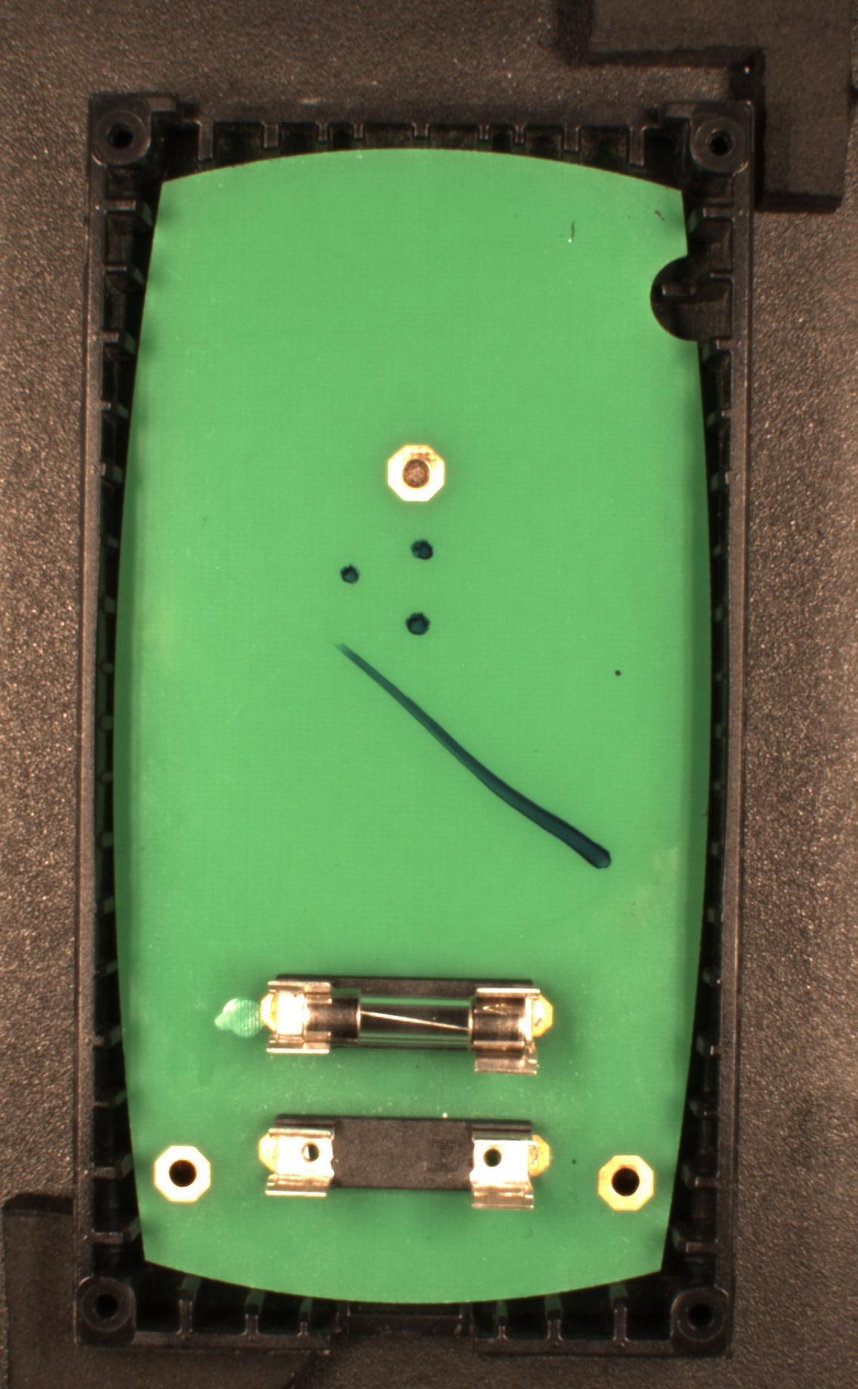Linijsko Ostecene: (332, 639, 614, 872)
Nepostojanje osiguraca: (257, 1111, 552, 1212)
Tockasto Ostecenje: (404, 611, 431, 636), (409, 538, 434, 561), (340, 563, 362, 585)
